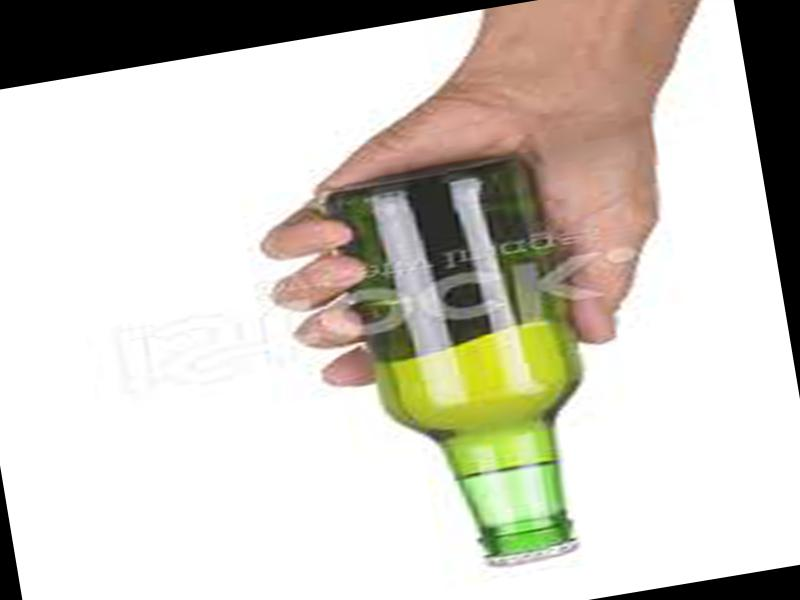Beer: (335, 149, 617, 584)
